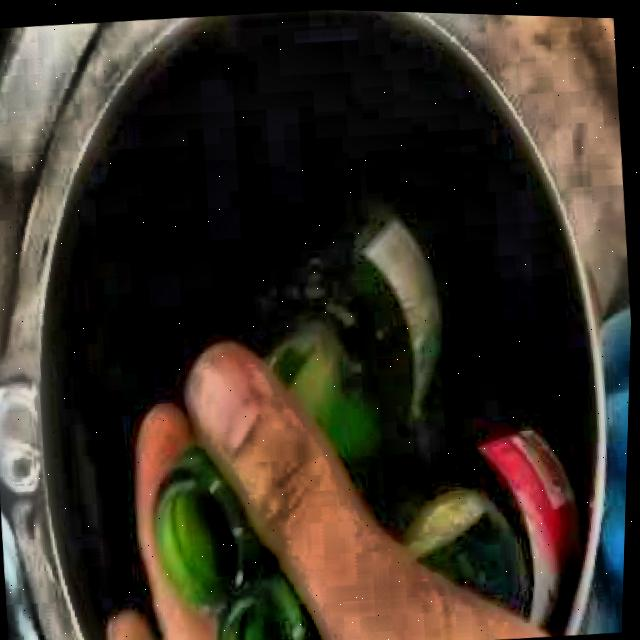glass: (271, 212, 585, 622), (155, 442, 325, 640)
